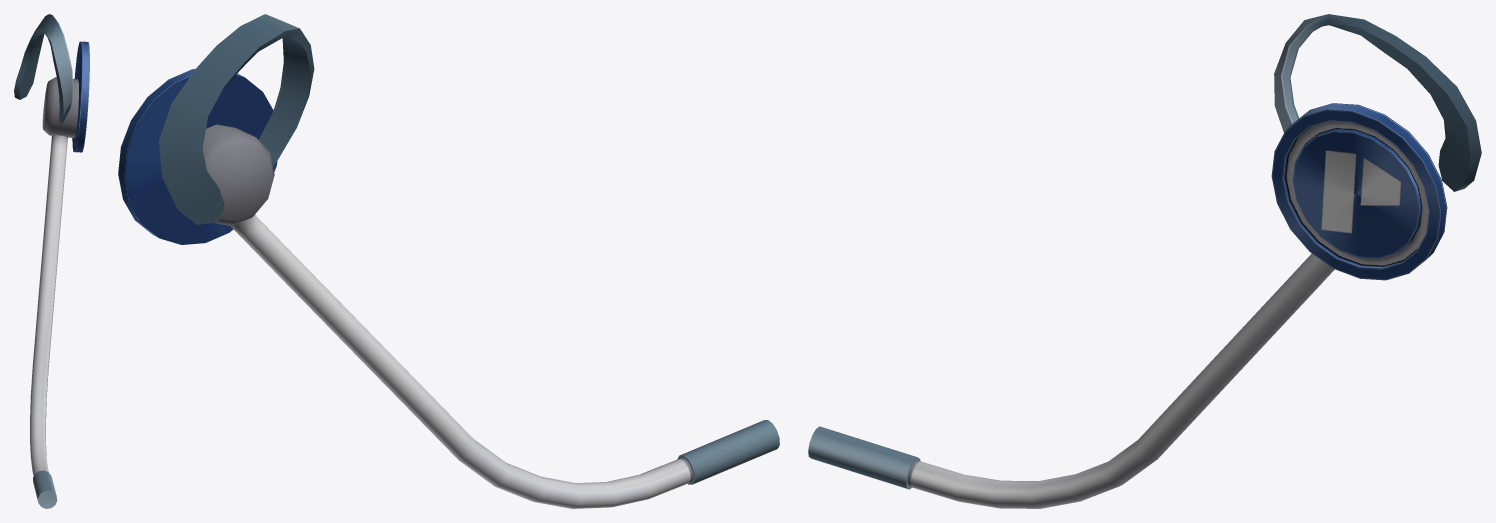
Rendered from EntrainingIntercomSora.fbx.
The picture shows the model from 3 angles, left to right: view 1: azimuth 30°, elevation 25°; view 2: azimuth 150°, elevation 25°; view 3: azimuth 270°, elevation 25°; orthographic projection. The views are drawn at different scales.
Visible parts, largest first — view 1: EntrainingIntercomSora; view 2: EntrainingIntercomSora; view 3: EntrainingIntercomSora.
Boxes of the visible parts, x1,y1,x2,y2 form: EntrainingIntercomSora: (14, 14, 89, 508); EntrainingIntercomSora: (118, 14, 779, 508); EntrainingIntercomSora: (808, 14, 1481, 508).
Size of the model in its own units: 0.0535 by 0.0783 by 0.0808.
Materials: 1 (1 with a texture image).
